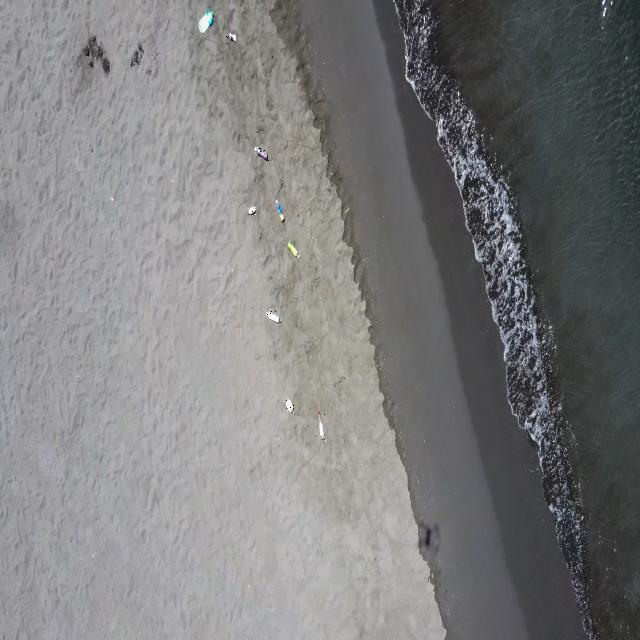Garbage: (199, 9, 212, 32), (253, 145, 267, 160), (267, 310, 280, 323), (275, 200, 283, 221), (318, 411, 324, 439), (287, 241, 298, 256), (284, 399, 292, 412), (247, 206, 256, 215), (225, 33, 236, 40)
